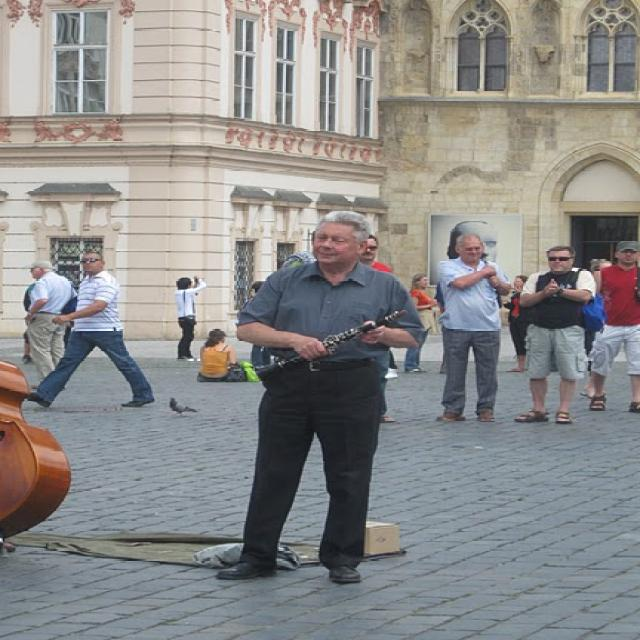cello: (0, 351, 81, 541)
clarinet: (252, 304, 409, 384)
